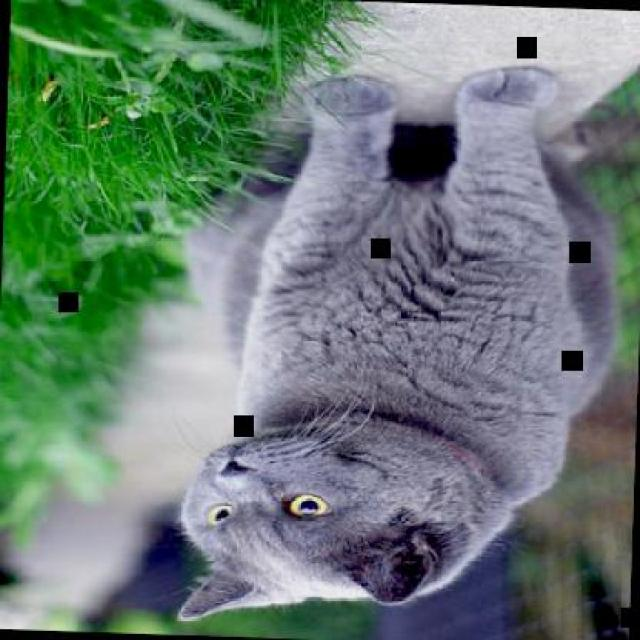cat: (173, 56, 627, 636)
